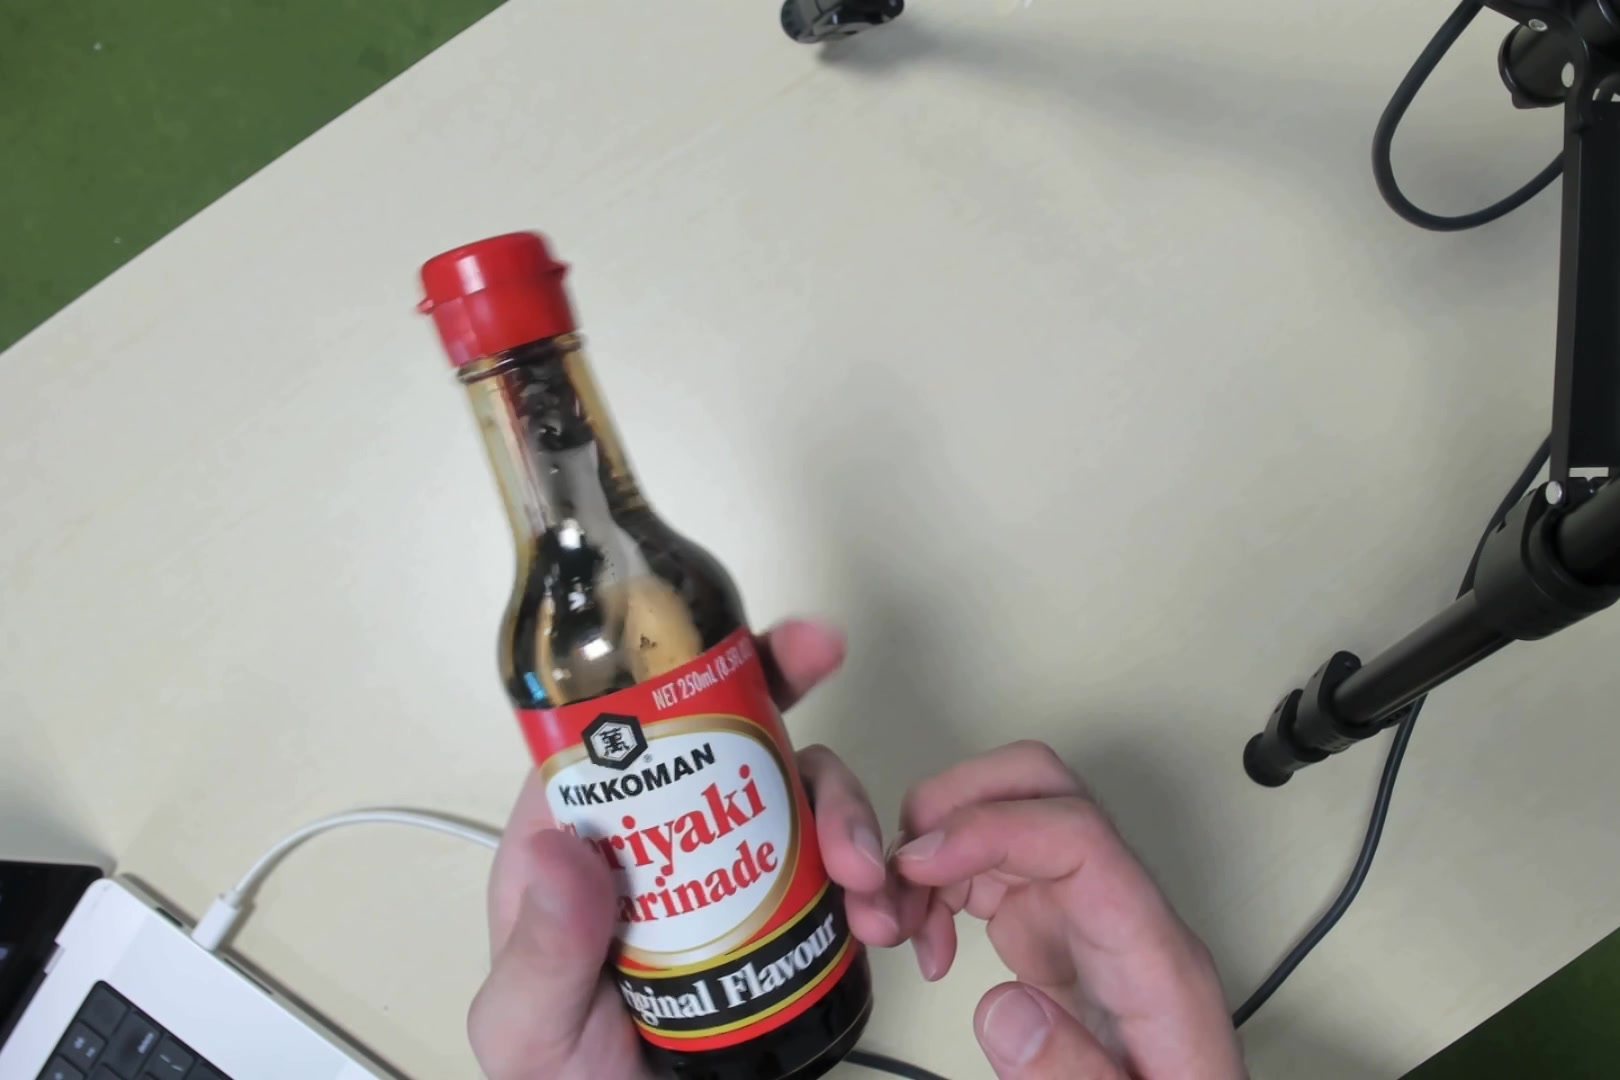OtherSauceDressingSoupbasePaste_200-299g_NonHalal_NonHealthy: (475, 272, 863, 1035)
